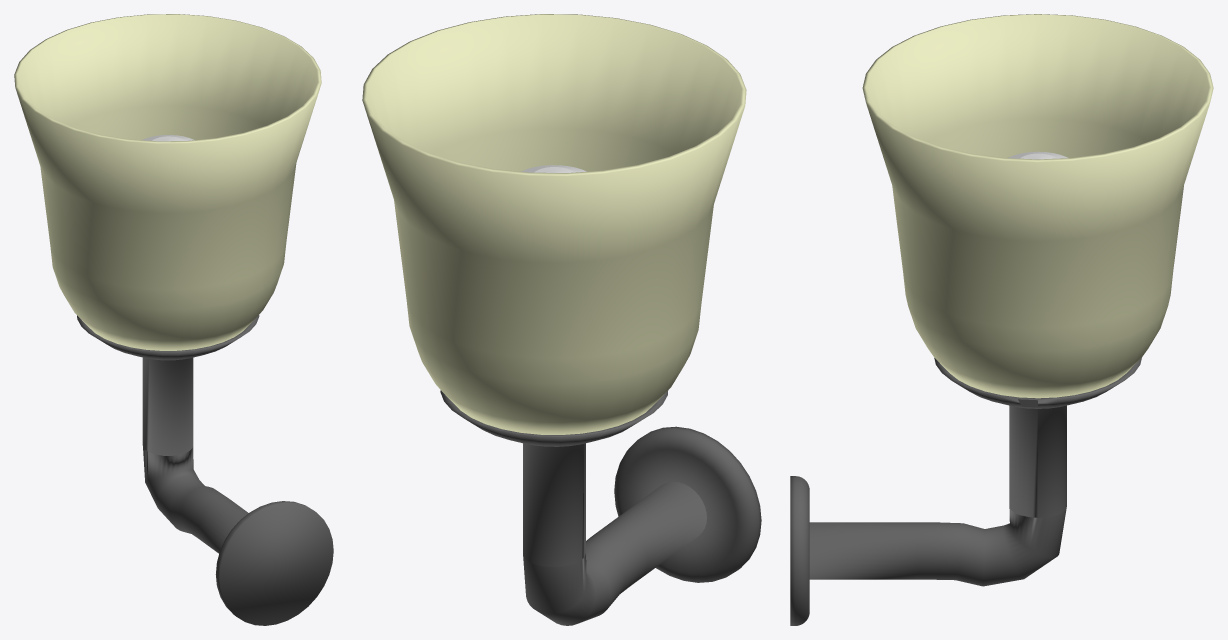
Rendered from OutsideHallLampOn.fbx.
The picture shows the model from 3 angles, left to right: view 1: azimuth 30°, elevation 25°; view 2: azimuth 150°, elevation 25°; view 3: azimuth 270°, elevation 25°; orthographic projection. The views are drawn at different scales.
Parts seen in each view (by area): view 1: Sphere.001, Sphere.003; view 2: Sphere.001, Sphere.003; view 3: Sphere.001, Sphere.003.
Part boxes in pixels (x1,y1,x2,y2): Sphere.001: (14,14,321,350); Sphere.003: (77,315,333,625); Sphere.001: (362,14,746,434); Sphere.003: (440,390,761,625); Sphere.001: (862,14,1213,398); Sphere.003: (790,358,1141,625).
Size of the model in its own units: 38.57 by 64.48 by 46.51.
